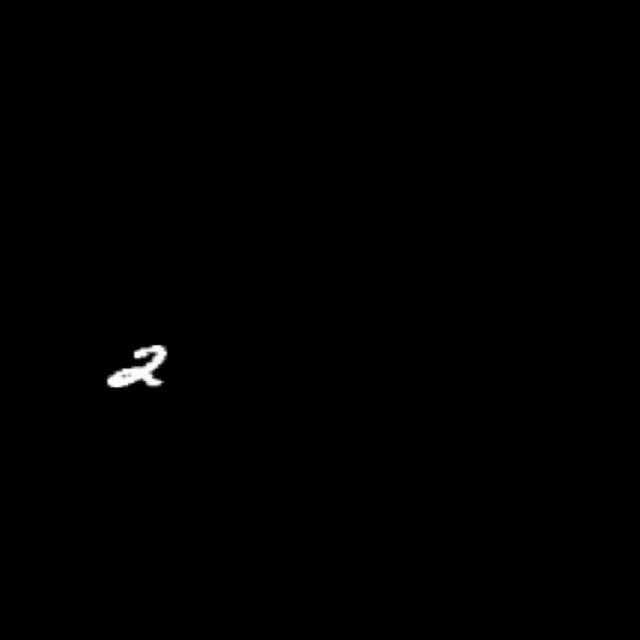two -2-: (99, 339, 186, 404)
